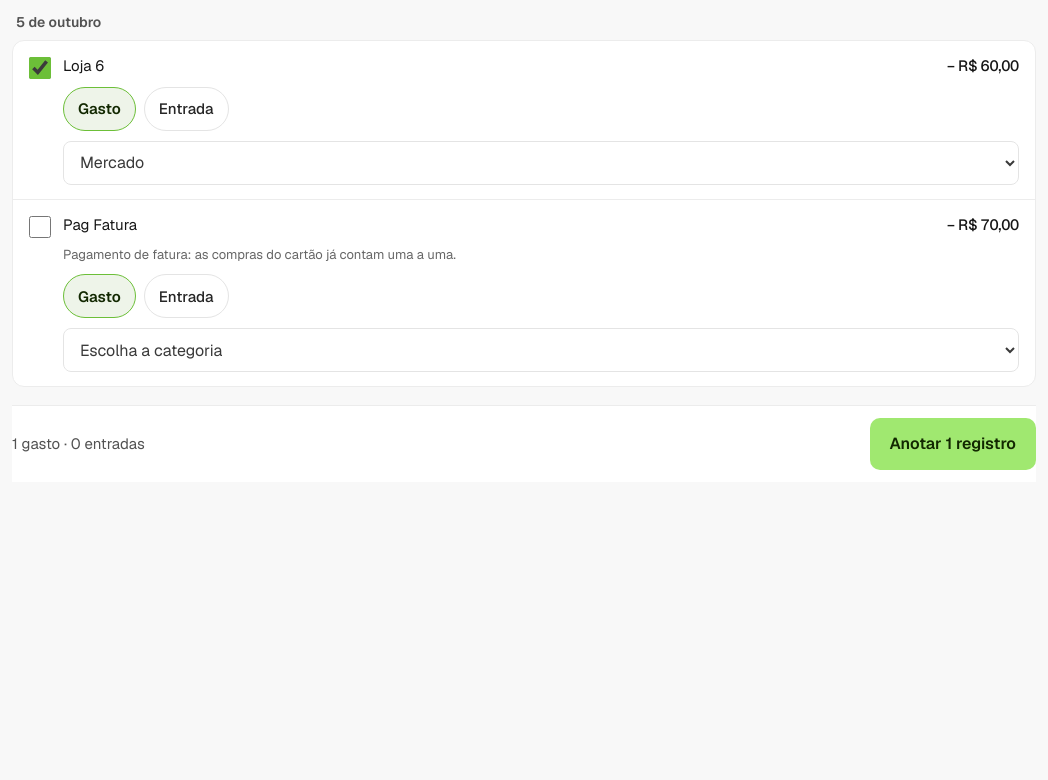
it: marcar uma linha de fatura sem categoria faz a ação em massa aparecer e resolver
Check: the button "Pôr em Outros" is not shown
Click the checkbox labelled "Pag Fatura − R$ 70,00" at (40, 227), box [29,216,51,238]
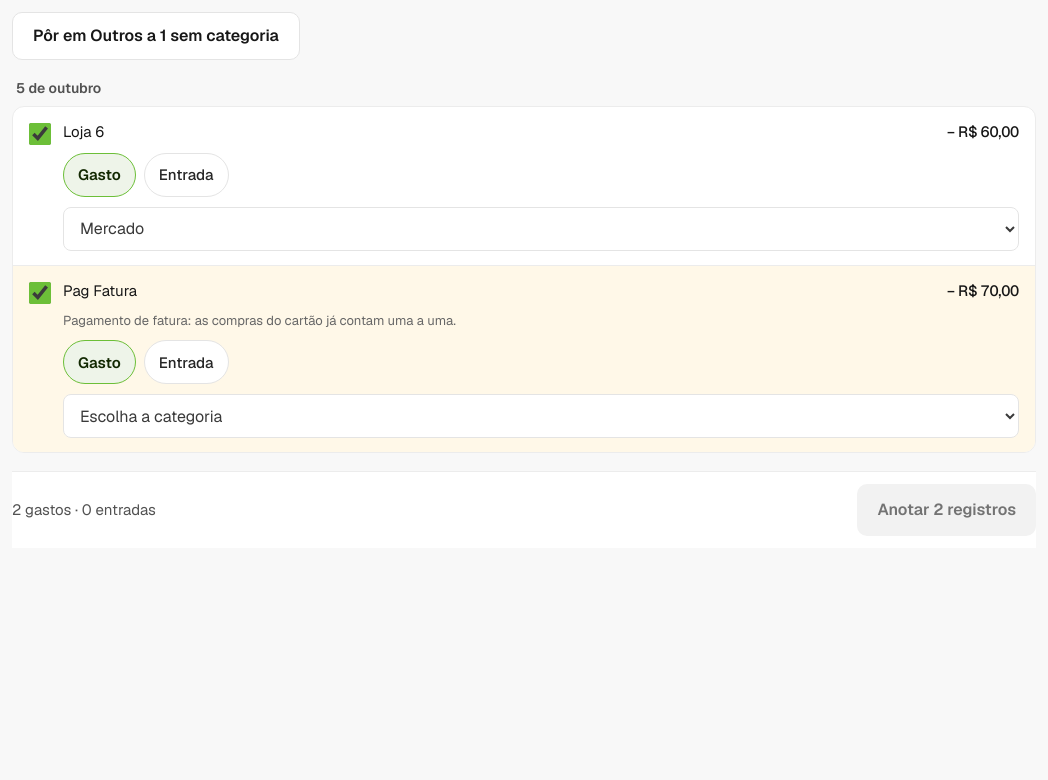
Check: the button "Anotar 2 registros" is disabled, box [857,484,1036,536]
Click the button "Pôr em Outros a 1 sem categoria" at (156, 36), box [12,12,300,60]
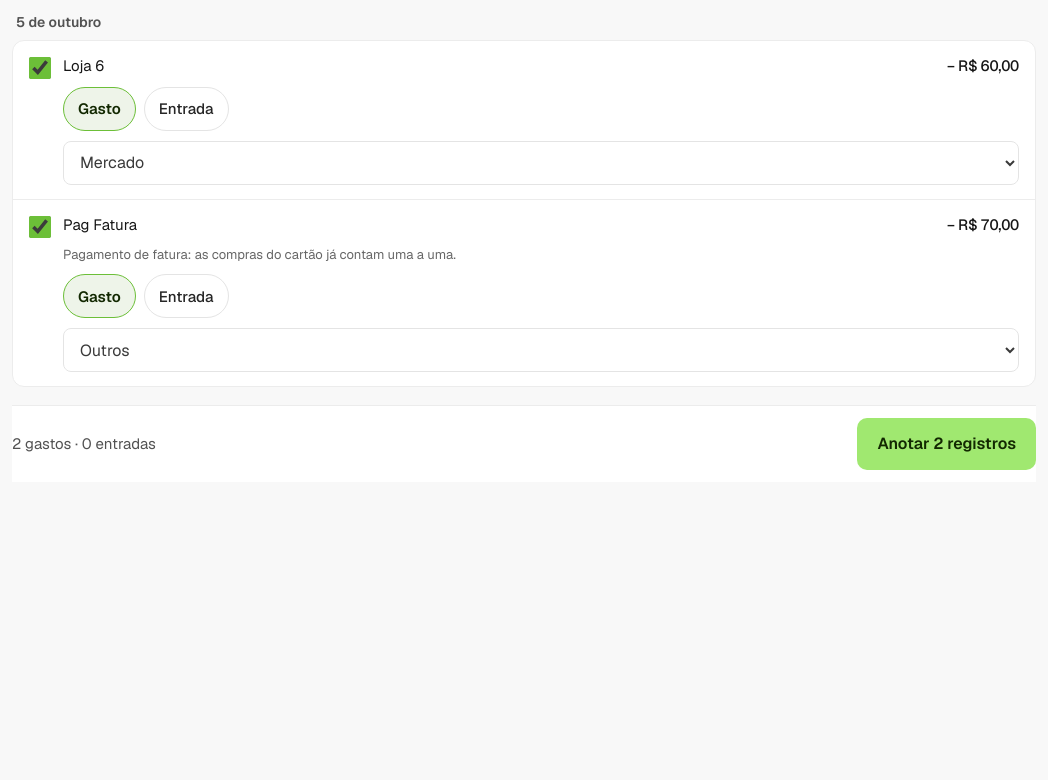
Check: the button "Anotar 2 registros" is enabled, box [857,418,1036,470]
Check: the dropdown labelled "Pag Fatura − R$ 70,00" shows "Outros", box [63,328,1019,372]
